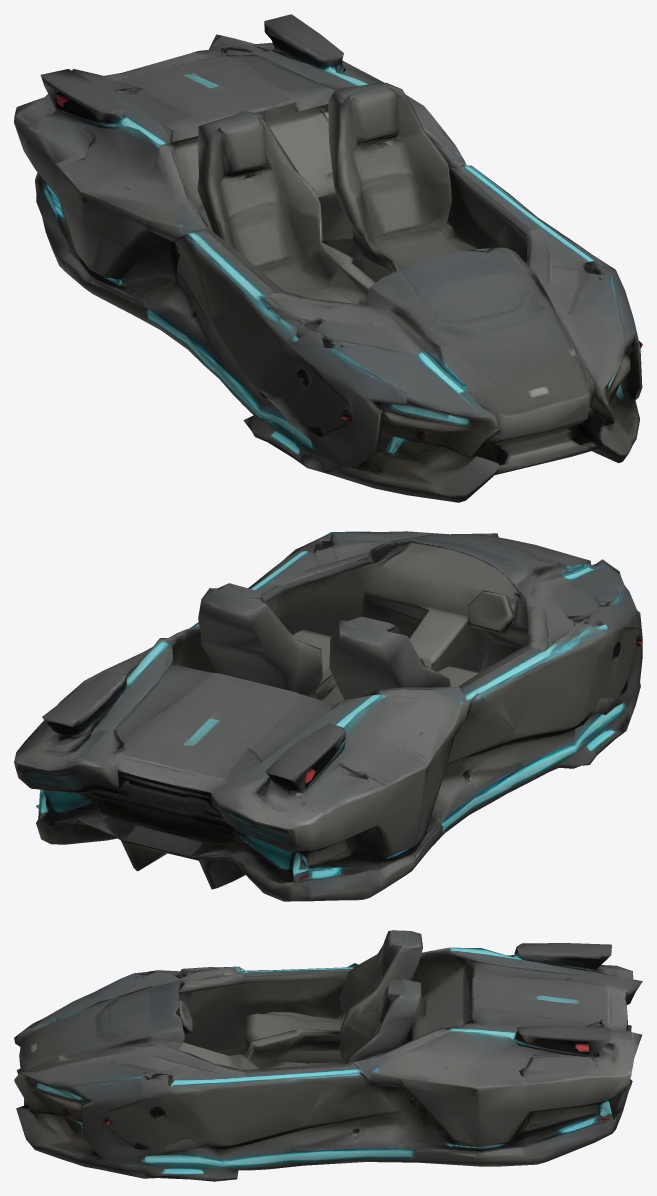
3 views of the same model, one above another, from view 1: azimuth 30°, elevation 25°; view 2: azimuth 150°, elevation 25°; view 3: azimuth 270°, elevation 25° (orthographic). The views are drawn at different scales.
Parts seen in each view (by area): view 1: tripo_node_6582a6da-e706-419f-9285-bc4d414077e0; view 2: tripo_node_6582a6da-e706-419f-9285-bc4d414077e0; view 3: tripo_node_6582a6da-e706-419f-9285-bc4d414077e0.
Part boxes in pixels (bbox=[...]): tripo_node_6582a6da-e706-419f-9285-bc4d414077e0: bbox=[14, 14, 642, 502]; tripo_node_6582a6da-e706-419f-9285-bc4d414077e0: bbox=[14, 531, 642, 901]; tripo_node_6582a6da-e706-419f-9285-bc4d414077e0: bbox=[14, 930, 642, 1181].
Size of the model in its own units: 2.05 by 1.17 by 4.2.
Materials: 1 (1 with a texture image).
